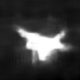plane: (15, 22, 73, 66)
